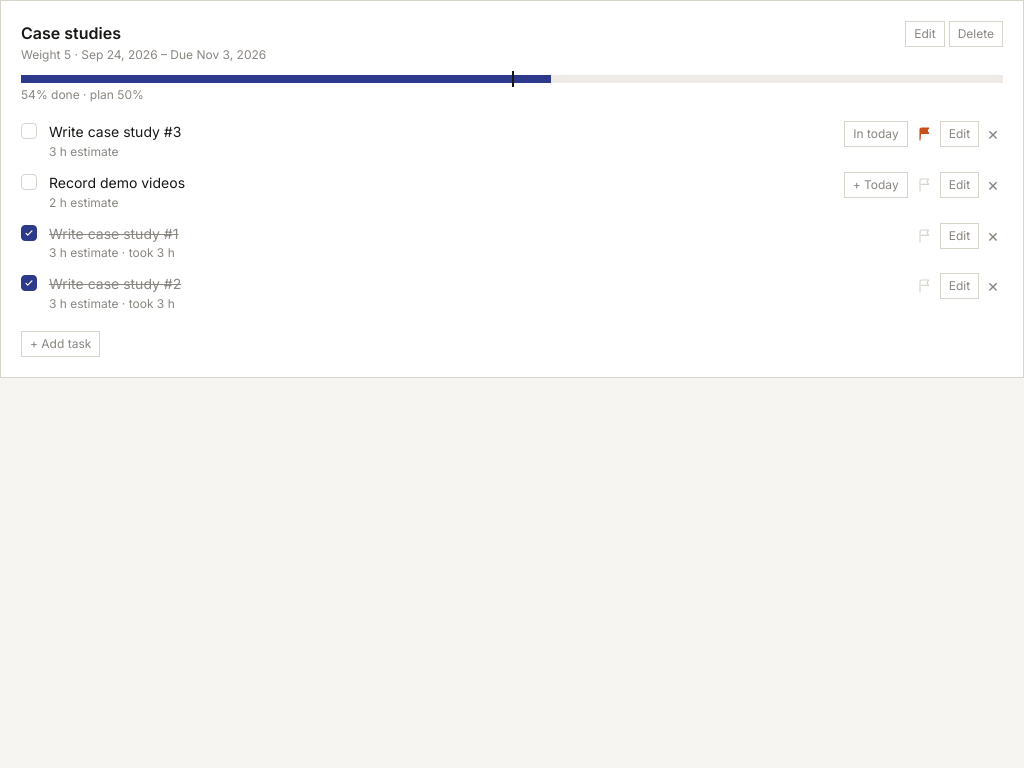
Test: RequirementCard › adds a task to itself
Click the button "+ Add task".
click(61, 344)  # box [21,331,100,357]
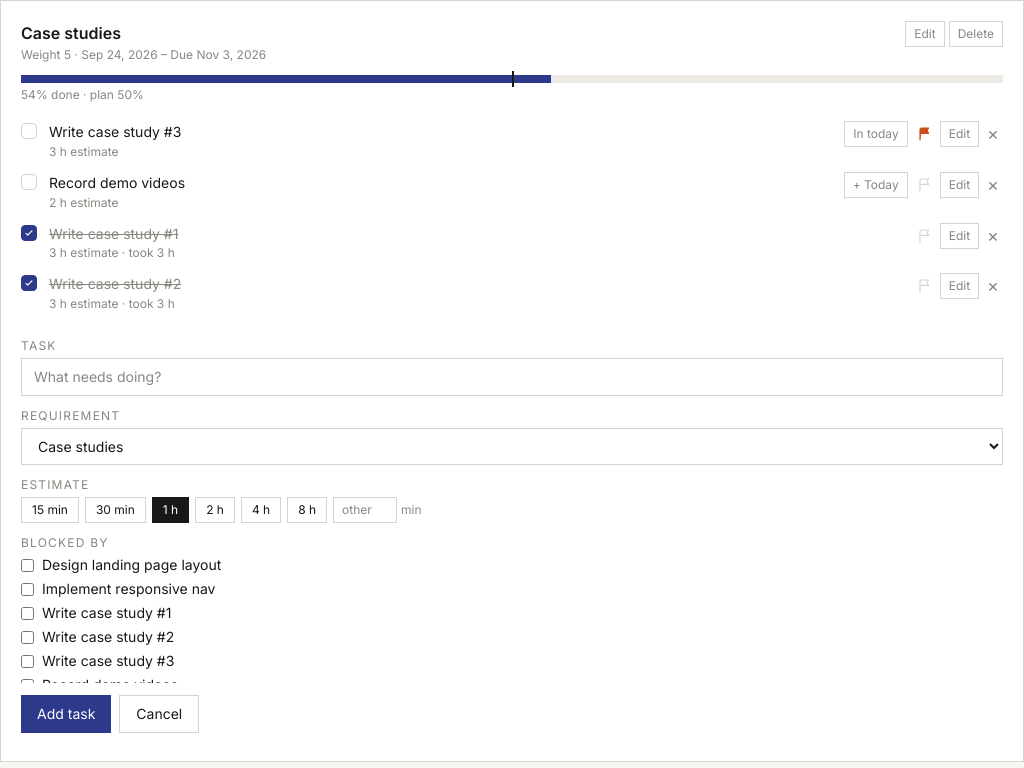
Type "Write case study #4" into the field named "Task title".
click(512, 377); type("Write case study #4")  # box [21,358,1003,396]
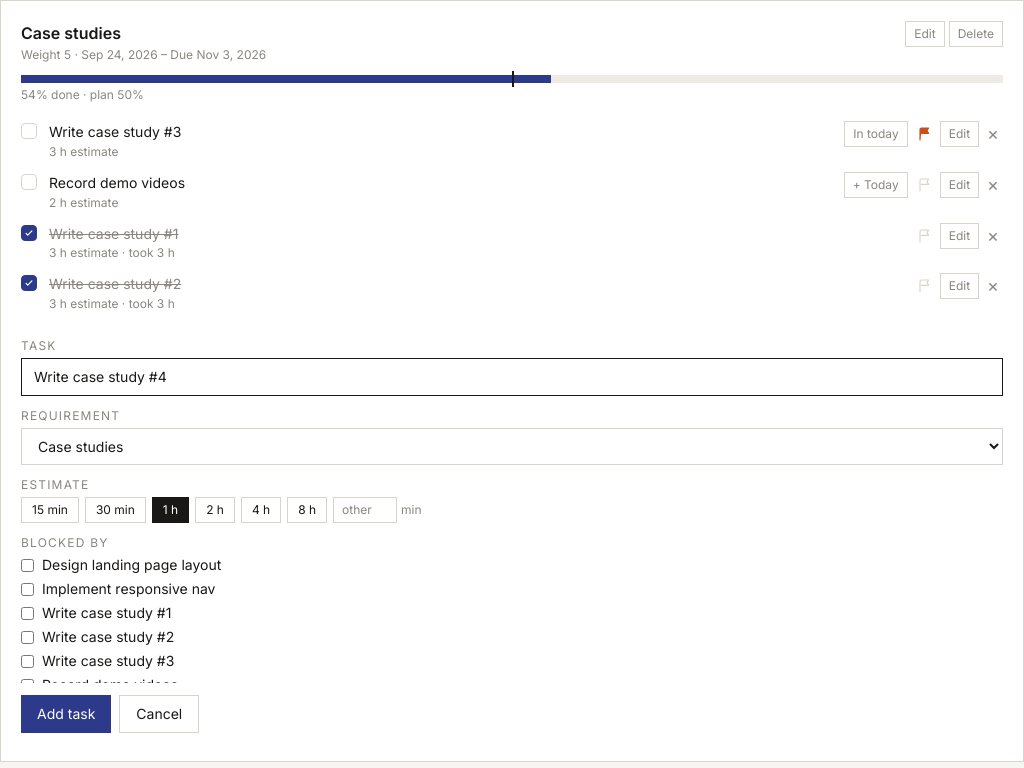
Click the button "Add task".
click(66, 714)  # box [21,695,111,733]
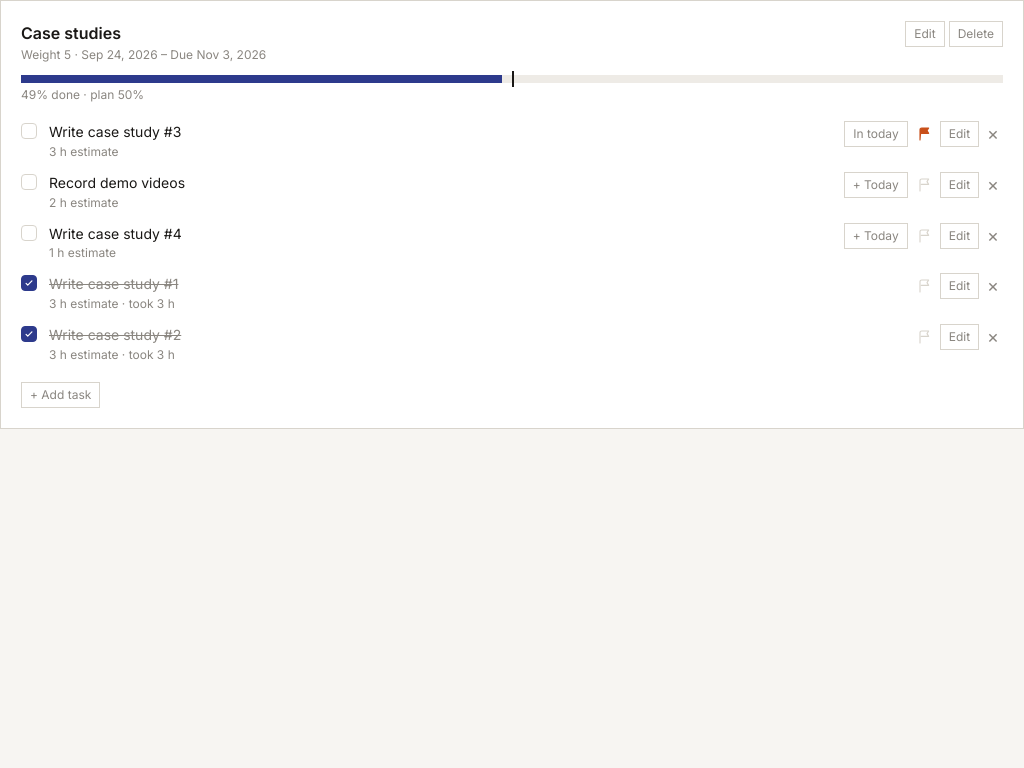
Check: the text "Write case study #4" is shown, box [49,224,182,242]
